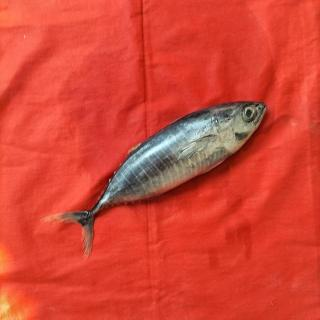Ikan: (41, 93, 277, 263)
